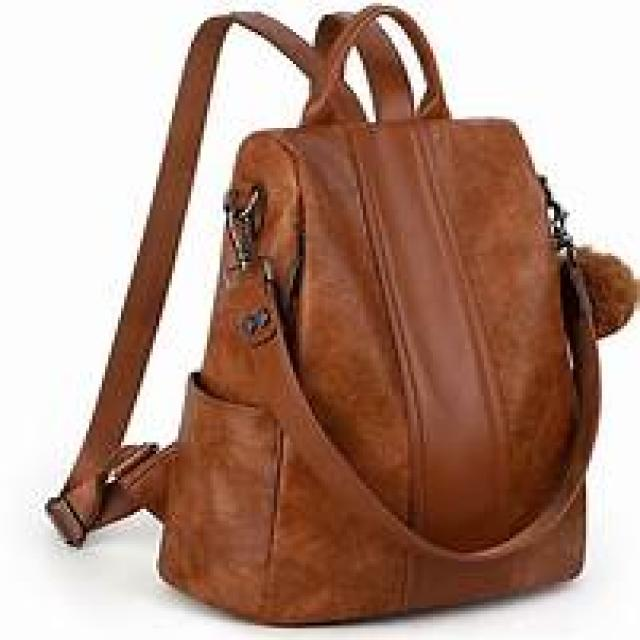backpack: (42, 1, 637, 626)
